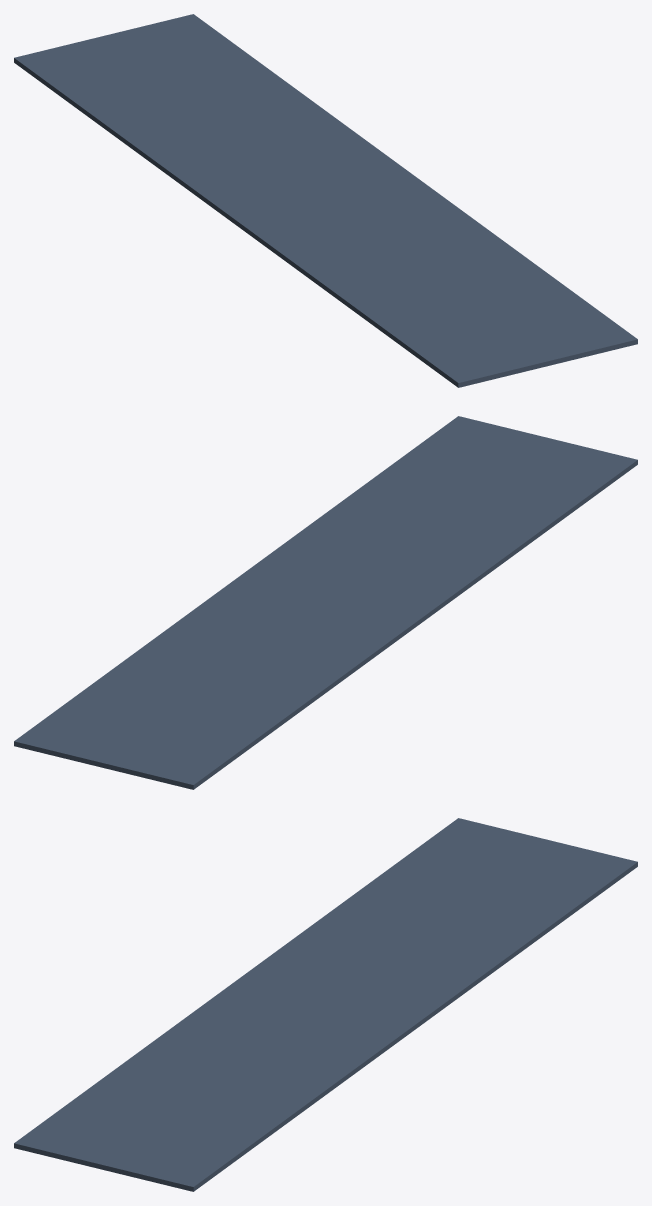
The model's file is floor_003_l_old_core_obschiy_dostup_lyudi_i_oboru_floor.obj.
3 views of the same model, one above another, from view 1: azimuth 30°, elevation 25°; view 2: azimuth 150°, elevation 25°; view 3: azimuth 330°, elevation 25° (orthographic).
Parts seen in each view (by area): view 1: Floor_003_l_old_core_obschiy_dostup_lyudi_i_oboru_floor; view 2: Floor_003_l_old_core_obschiy_dostup_lyudi_i_oboru_floor; view 3: Floor_003_l_old_core_obschiy_dostup_lyudi_i_oboru_floor.
Part boxes in pixels (box(x1,y1,x2,y2)): Floor_003_l_old_core_obschiy_dostup_lyudi_i_oboru_floor: box(14, 14, 637, 387); Floor_003_l_old_core_obschiy_dostup_lyudi_i_oboru_floor: box(14, 416, 637, 789); Floor_003_l_old_core_obschiy_dostup_lyudi_i_oboru_floor: box(14, 818, 637, 1191).
Bounding box in the file's own units: 7.78 × 0.2 × 33.35.
